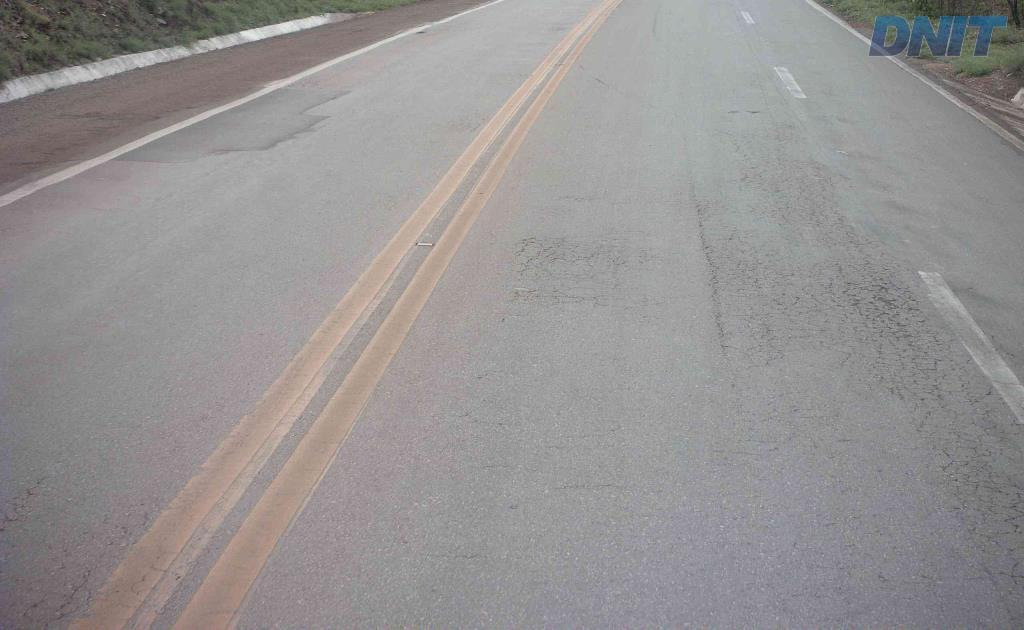crack: (817, 258, 923, 352), (798, 193, 869, 271), (982, 482, 1023, 535), (907, 353, 947, 390), (702, 238, 724, 304)
